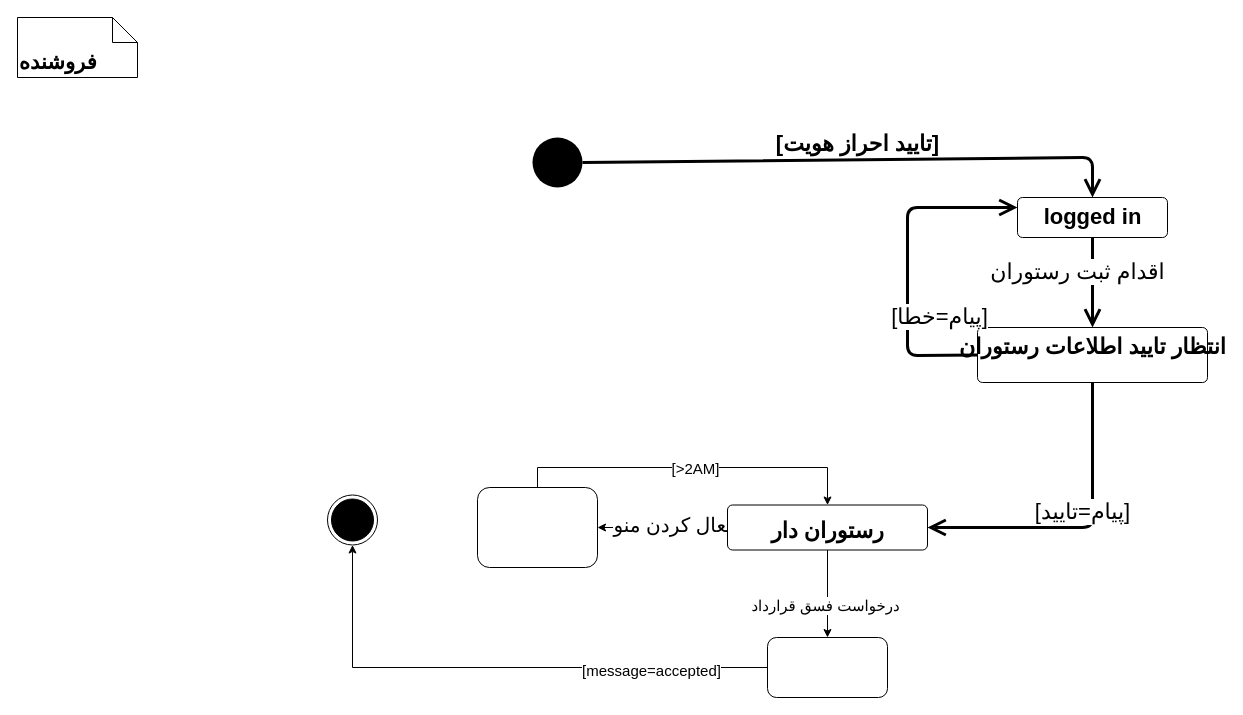
This 1243x715 diagram has some shape labels left out. The centre of each missing label's shape, as x and y in pixels:
sign out: [827,667]
در حال فروش: [537,527]
